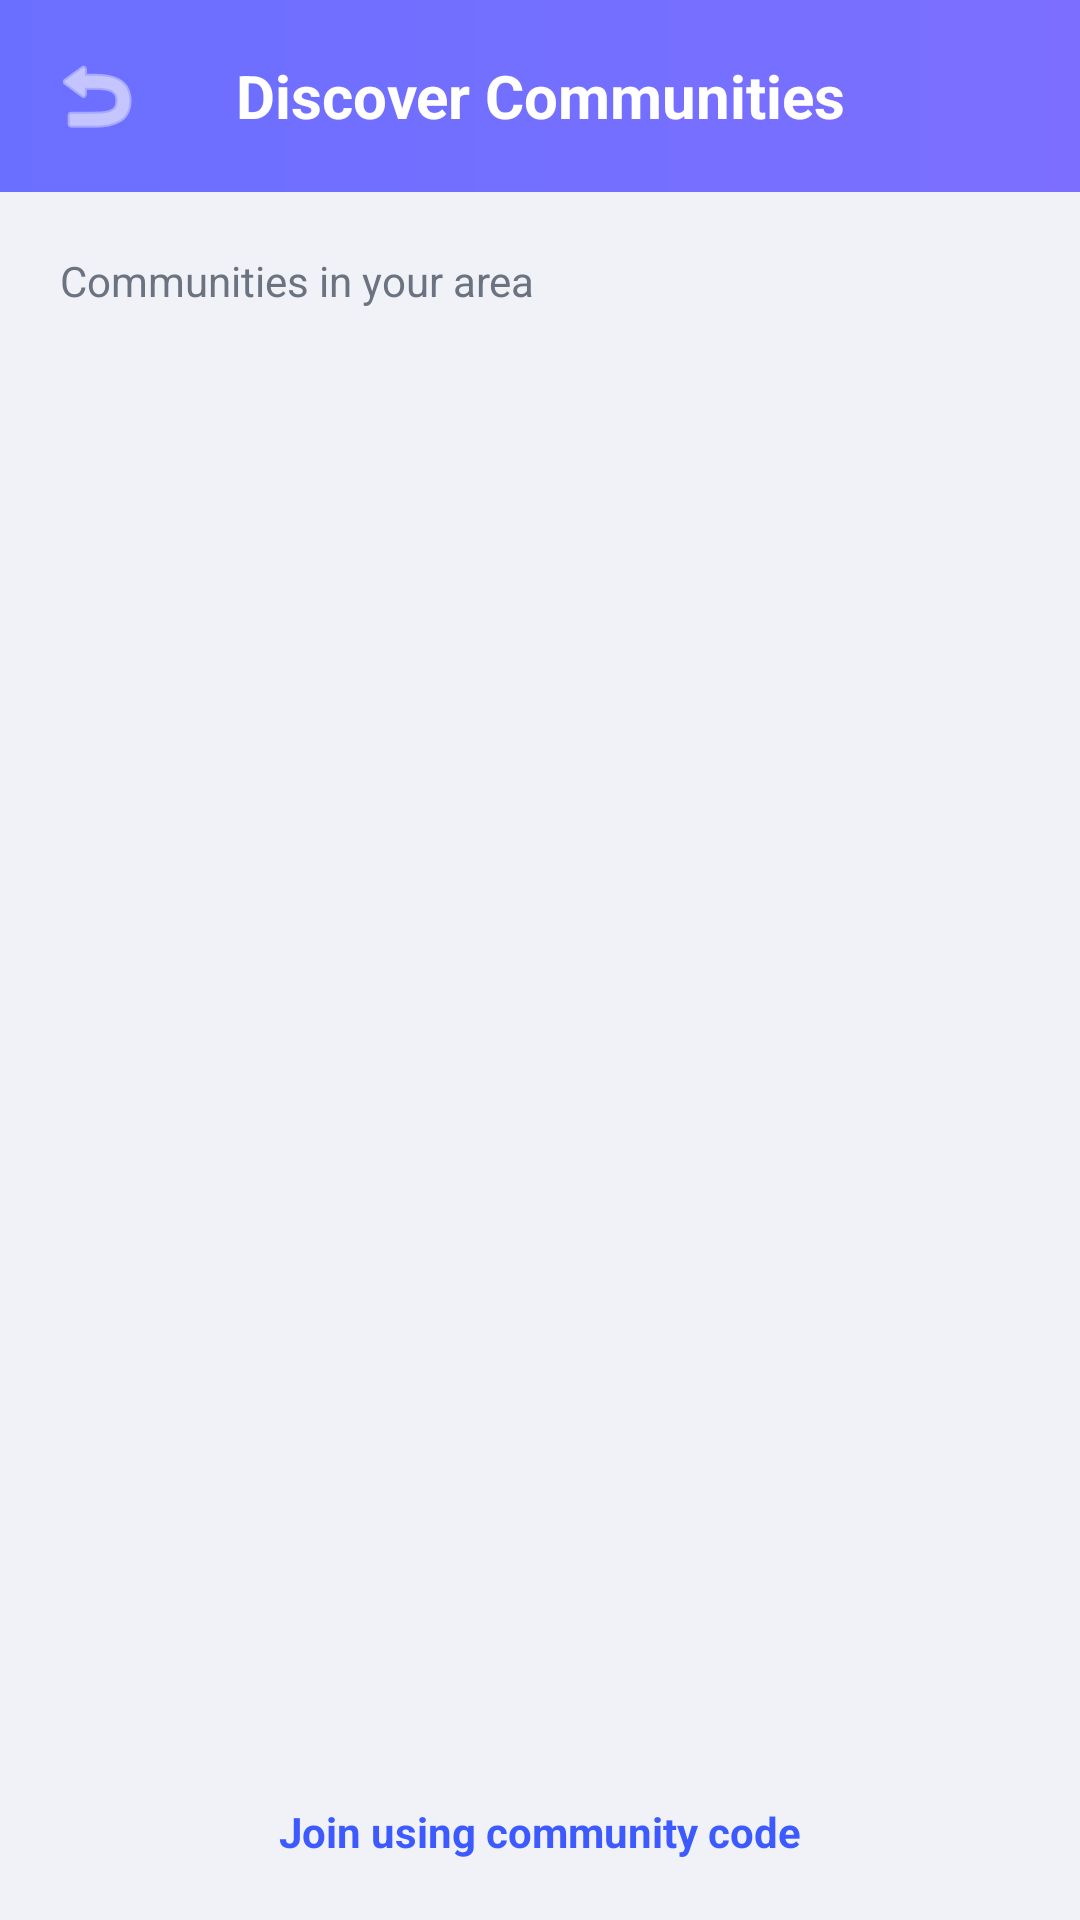

Named icons in this screenshot (1080px x 1920px) and their bounding boxes, [x1, y1, x2, y2]:
Go back: [63, 66, 132, 128]
